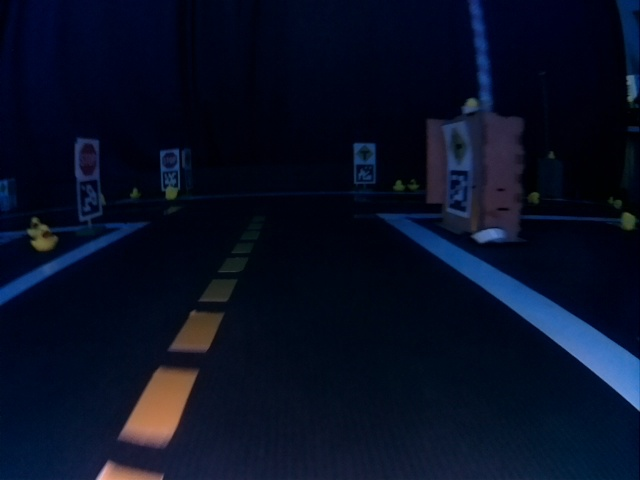Duckie: (31, 227, 57, 251), (27, 219, 43, 236), (623, 213, 635, 229), (165, 186, 177, 198), (528, 192, 539, 204), (394, 181, 404, 190), (614, 199, 623, 209), (410, 179, 419, 188), (130, 189, 139, 198), (548, 151, 557, 160)
Intersection sign: (447, 129, 469, 165), (356, 144, 375, 161)
QR code: (78, 179, 101, 217), (449, 170, 468, 213), (356, 164, 375, 183), (163, 170, 179, 188)
Stop sign: (77, 141, 99, 175), (161, 152, 178, 169)
